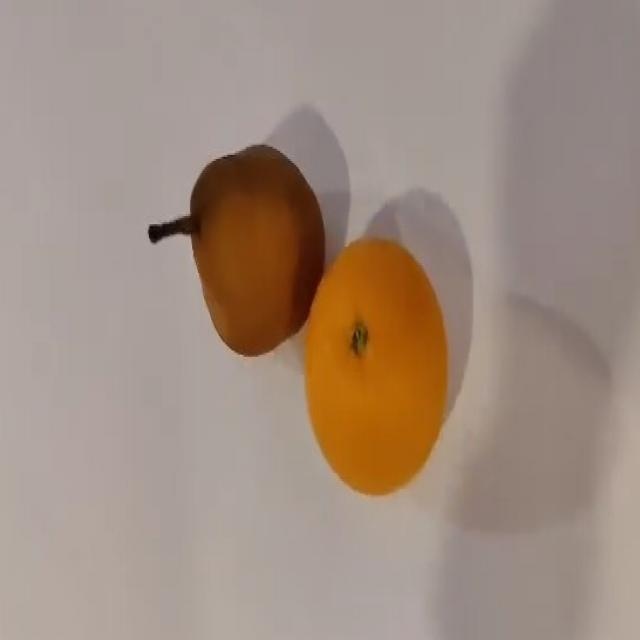Orange: (303, 236, 448, 496)
